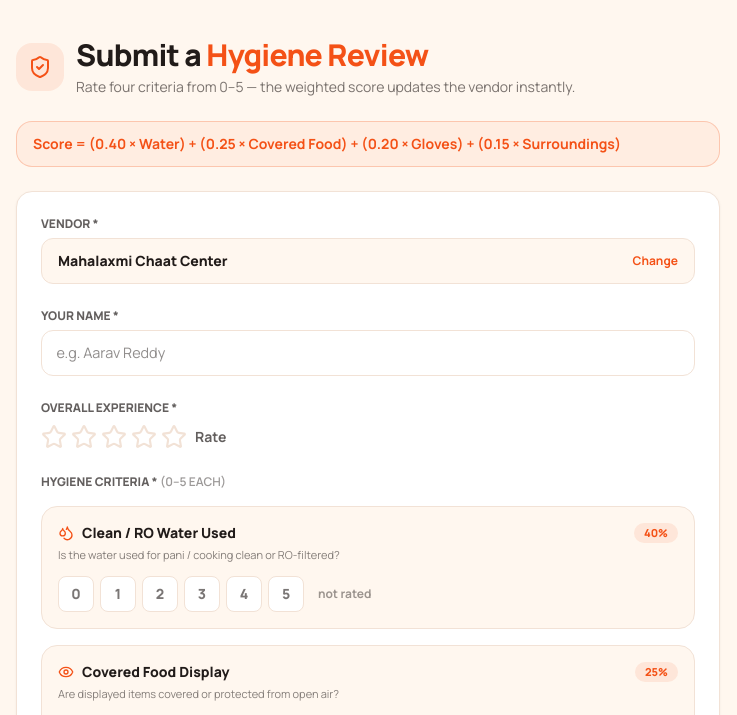
Test: HygieneReview › submits a complete review and shows the recalculated score (Before → After)
Type "Form Tester" into the field with placeholder "e.g. Aarav Reddy".
click(368, 353); type("Form Tester")  # box [41,330,695,376]
Click the radio button named "1 star".
click(54, 437)  # box [41,424,67,450]
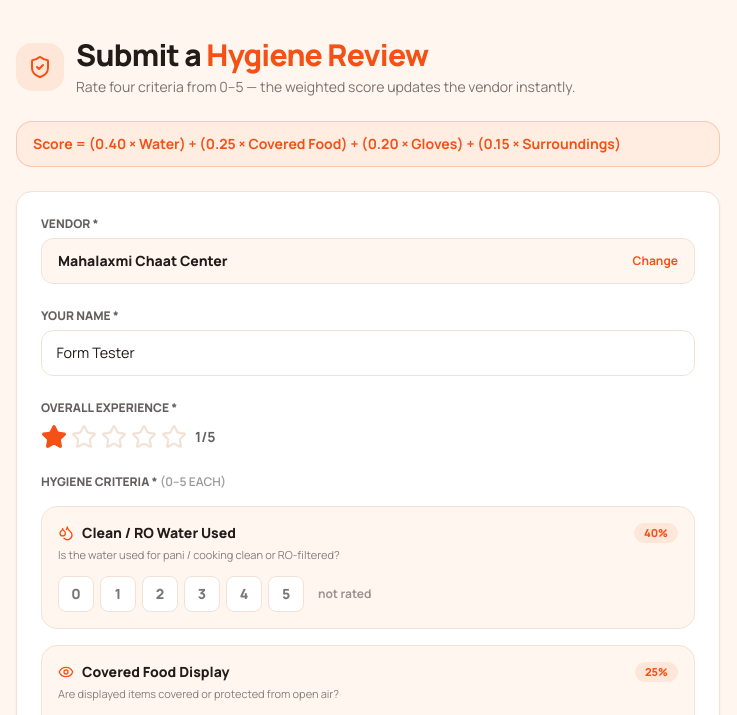
Click the button "0" below "Clean / RO Water Used".
click(76, 594)  # box [58,576,94,612]
(page scrolled)
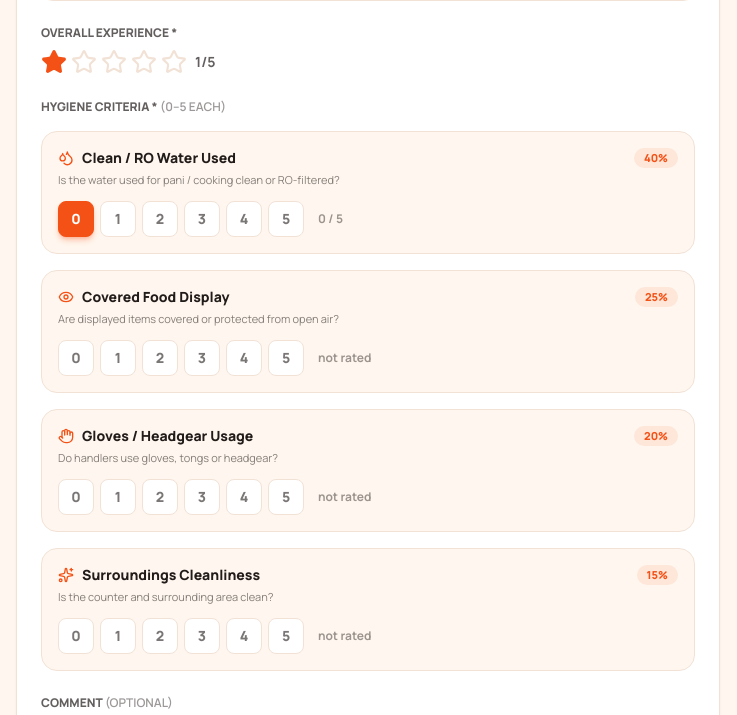
Click the button "0" below "Covered Food Display".
click(76, 358)  # box [58,340,94,376]
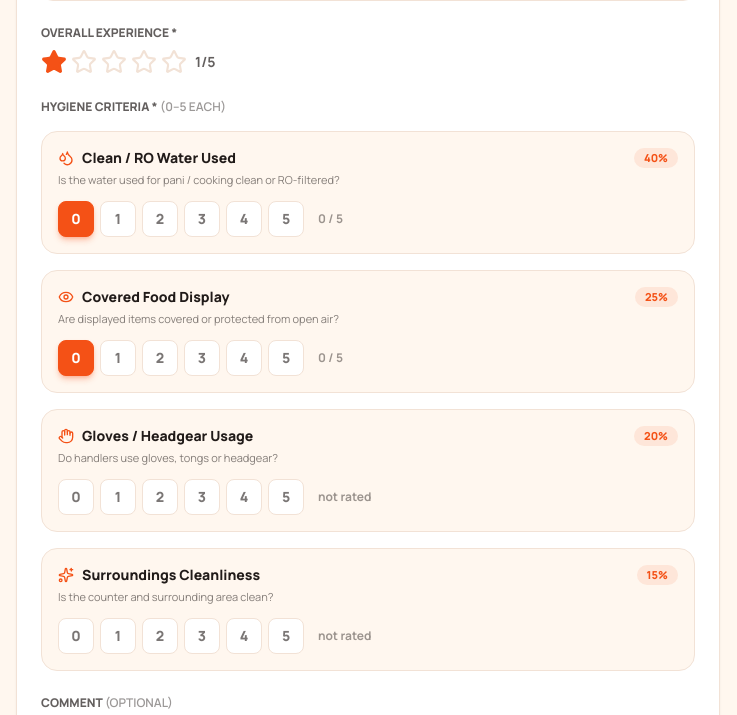
Click the button "0" below "Gloves / Headgear Usage".
click(76, 497)  # box [58,479,94,515]
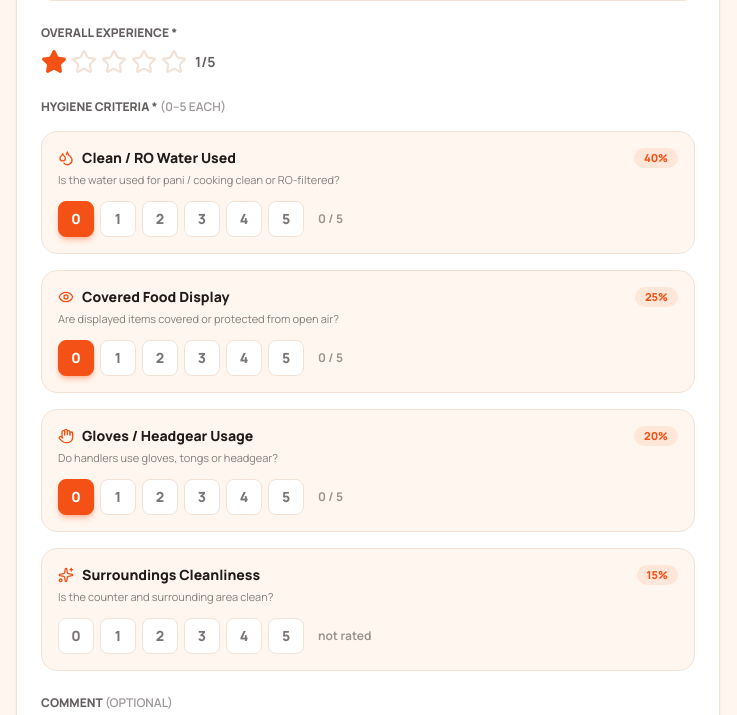
Click the button "0" in the row of "not rated".
click(76, 636)  # box [58,618,94,654]
(page scrolled)
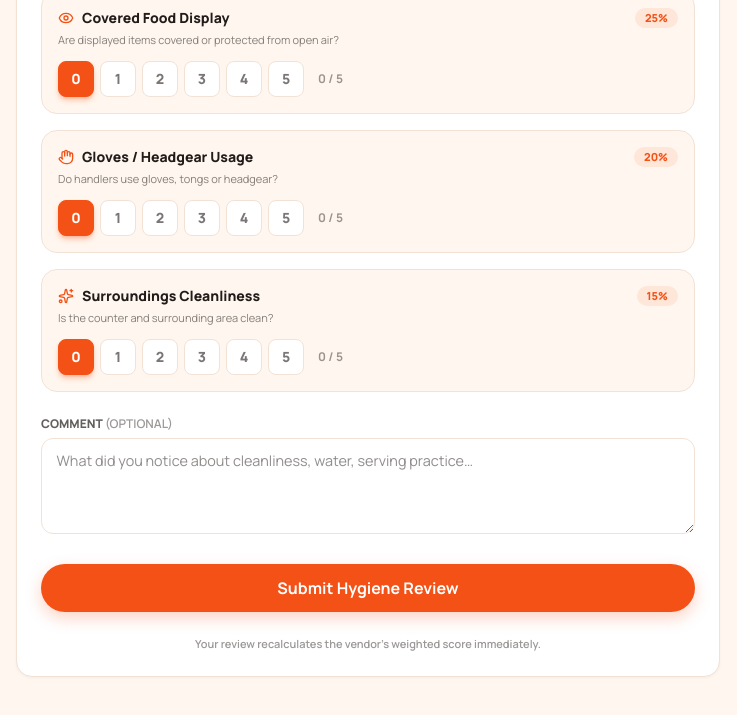
Click the button "Submit Hygiene Review".
click(368, 588)  # box [41,564,695,612]
(page scrolled)
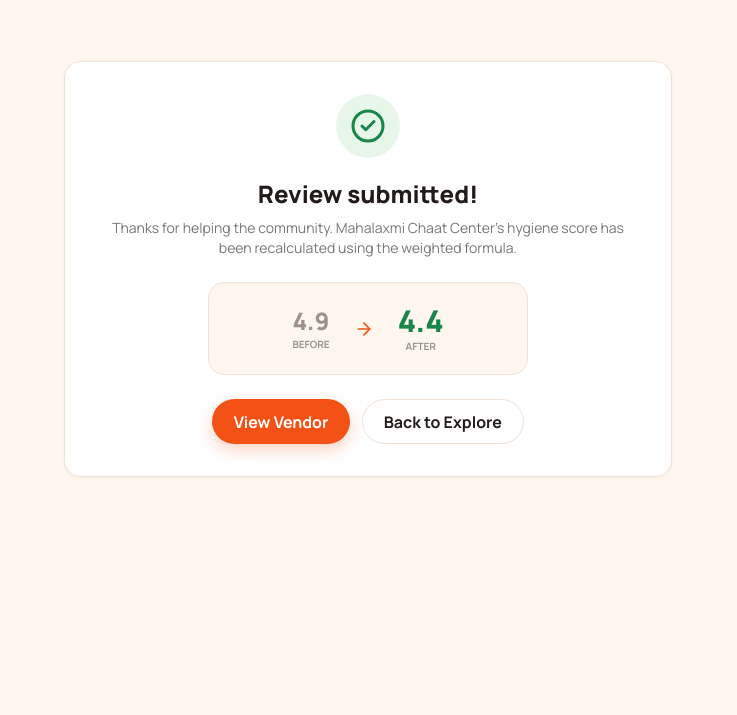
Expected: the heading "Review submitted!" is shown, [258,177,478,210]
